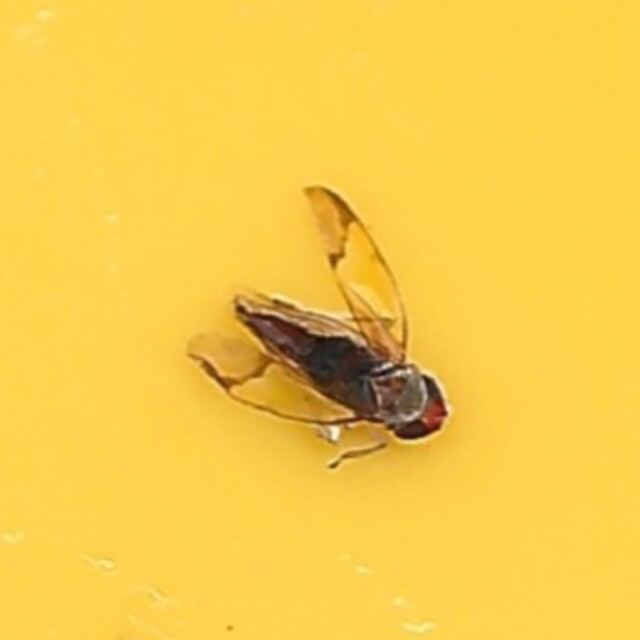Hemiptera: (182, 181, 458, 459)
